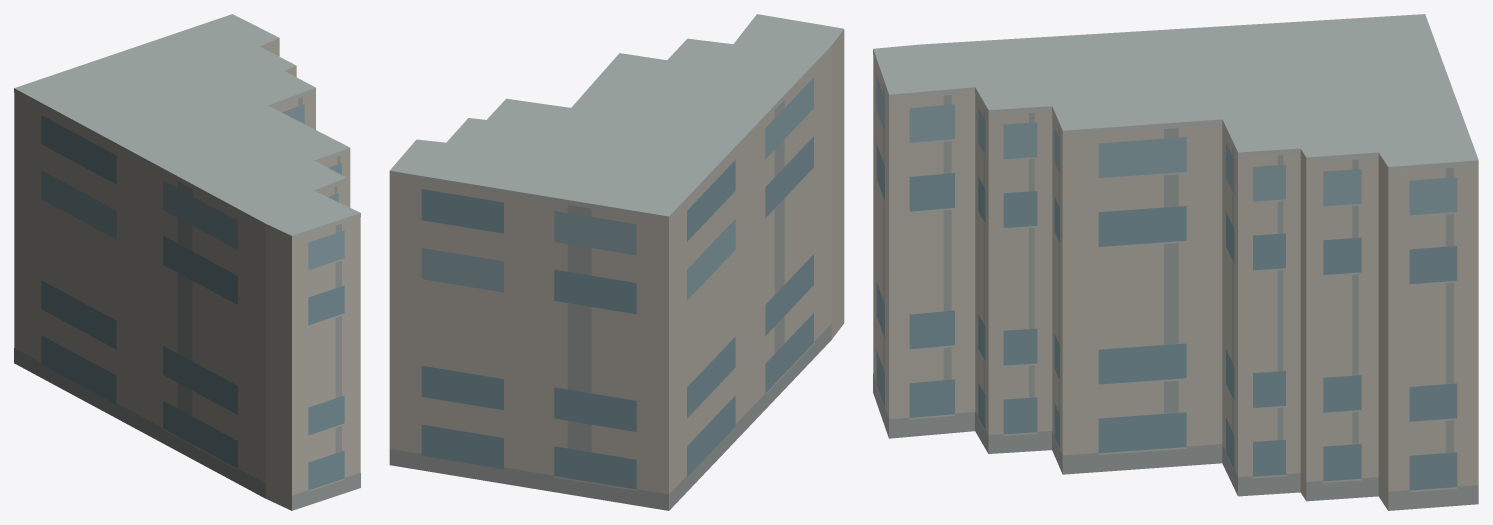
File: survey-upis-32717012.glb
The picture shows the model from 3 angles, left to right: view 1: azimuth 30°, elevation 25°; view 2: azimuth 150°, elevation 25°; view 3: azimuth 270°, elevation 25°; orthographic projection. The views are drawn at different scales.
Visible parts, largest first — view 1: survey-upis-32717012.tmp; view 2: survey-upis-32717012.tmp; view 3: survey-upis-32717012.tmp.
Part boxes in pixels (<box>): survey-upis-32717012.tmp: <box>14,14,360,510</box>; survey-upis-32717012.tmp: <box>389,14,844,510</box>; survey-upis-32717012.tmp: <box>873,14,1478,510</box>.
Size of the model in its own units: 14.32 by 15 by 23.95.
